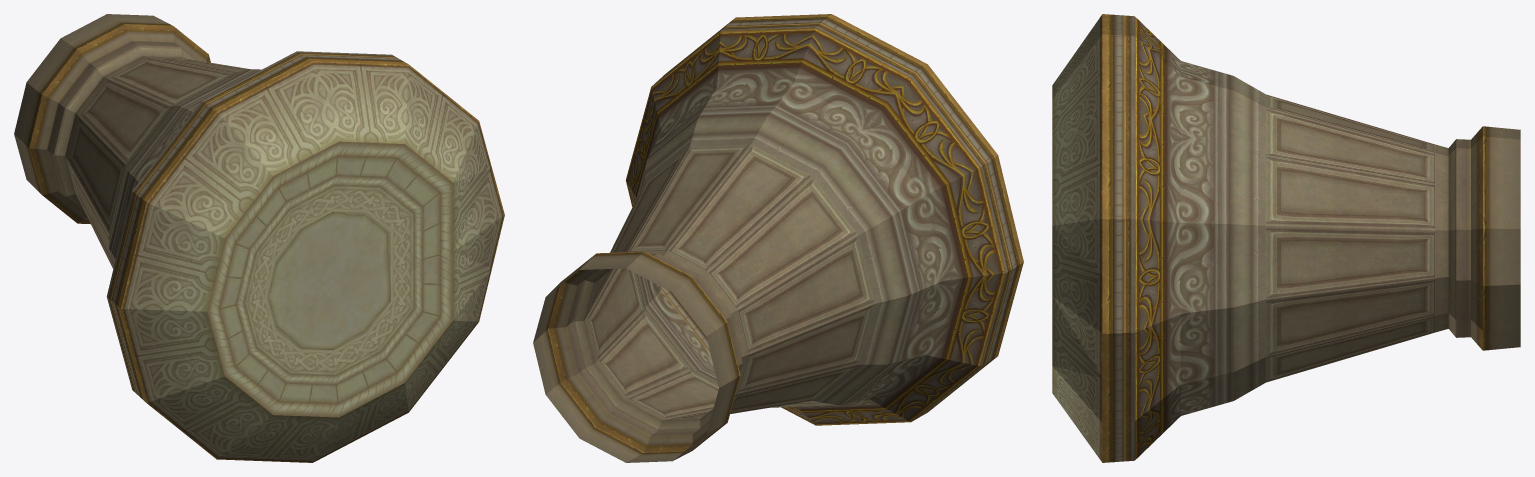
The model's file is huodong_fuben_407_pingtai_02.obj.
3 renders of one model, left to right at view 1: azimuth 30°, elevation 25°; view 2: azimuth 150°, elevation 25°; view 3: azimuth 270°, elevation 25°, orthographic.
Parts seen in each view (by area): view 1: huodong_fuben_407_pingtai_02; view 2: huodong_fuben_407_pingtai_02; view 3: huodong_fuben_407_pingtai_02.
Boxes of the visible parts, x1,y1,x2,y2 form: huodong_fuben_407_pingtai_02: [14, 14, 504, 462]; huodong_fuben_407_pingtai_02: [533, 14, 1023, 462]; huodong_fuben_407_pingtai_02: [1052, 14, 1520, 462].
Bounding box in the file's own units: 2598 × 2598 × 2699.
Materials: 3 (3 with a texture image).
